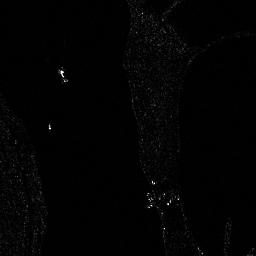ship: (57, 66, 70, 83)
